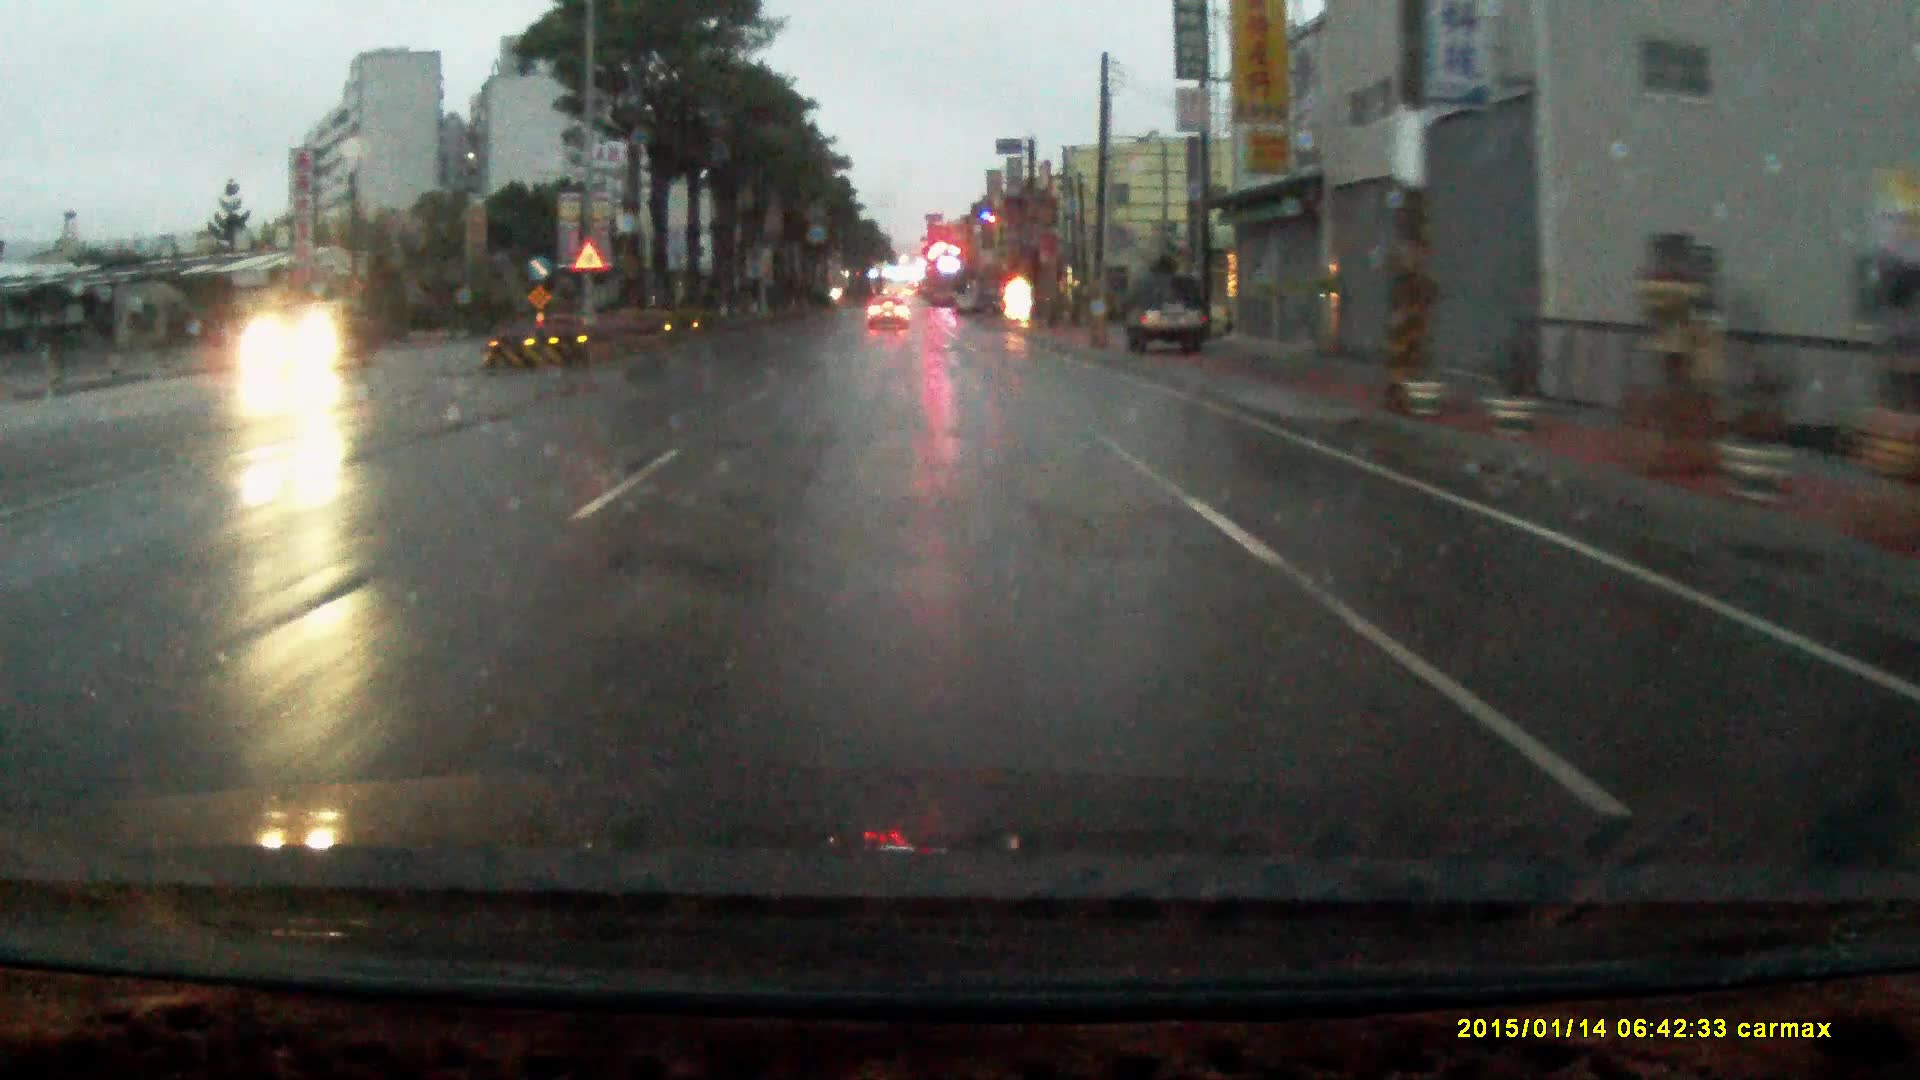vehicle: (233, 301, 382, 378), (1125, 277, 1215, 360), (866, 298, 913, 334)
